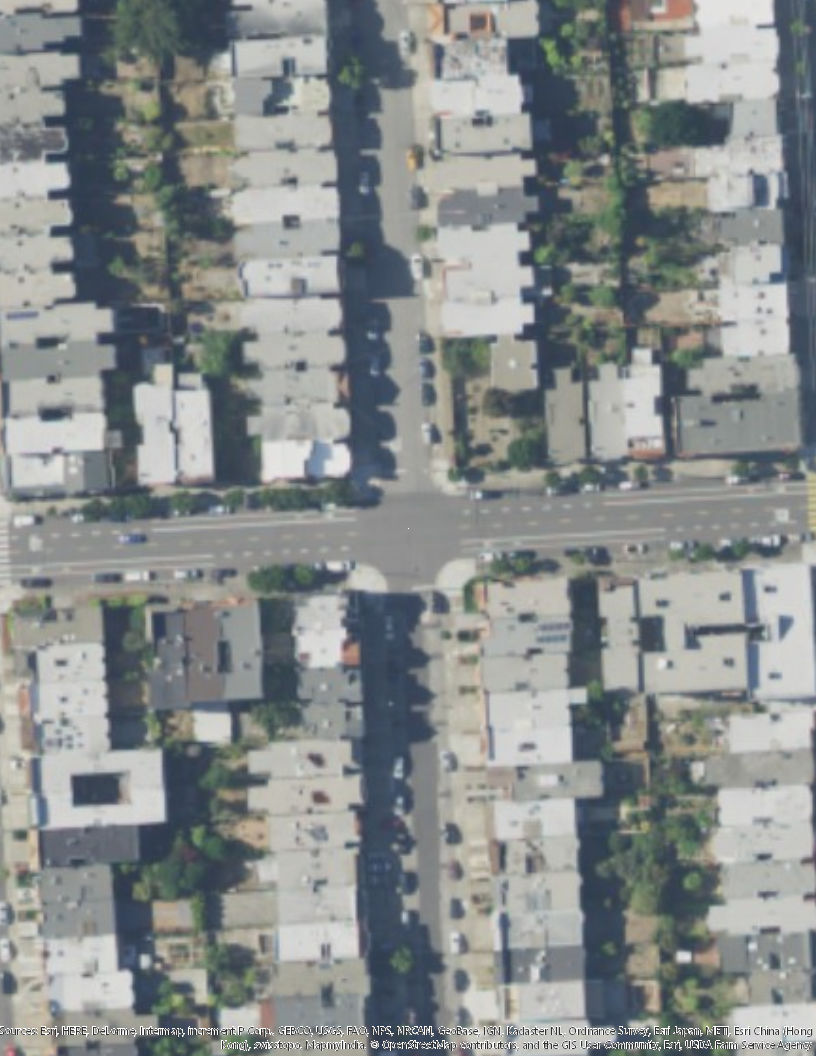zebracross: (1, 518, 12, 585), (808, 475, 816, 533)
